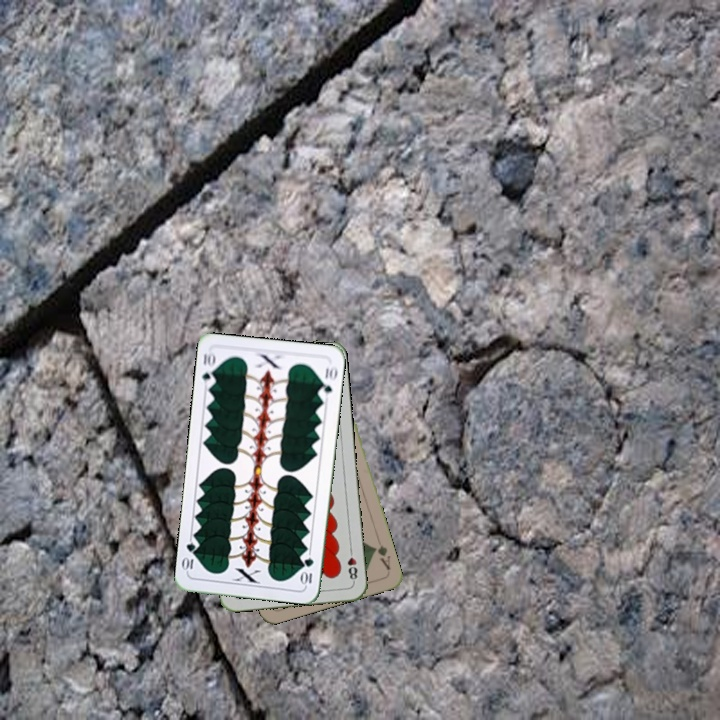G10: (198, 348, 219, 389), (298, 554, 316, 588)
GA: (369, 534, 393, 572)
H8: (343, 544, 360, 585)
